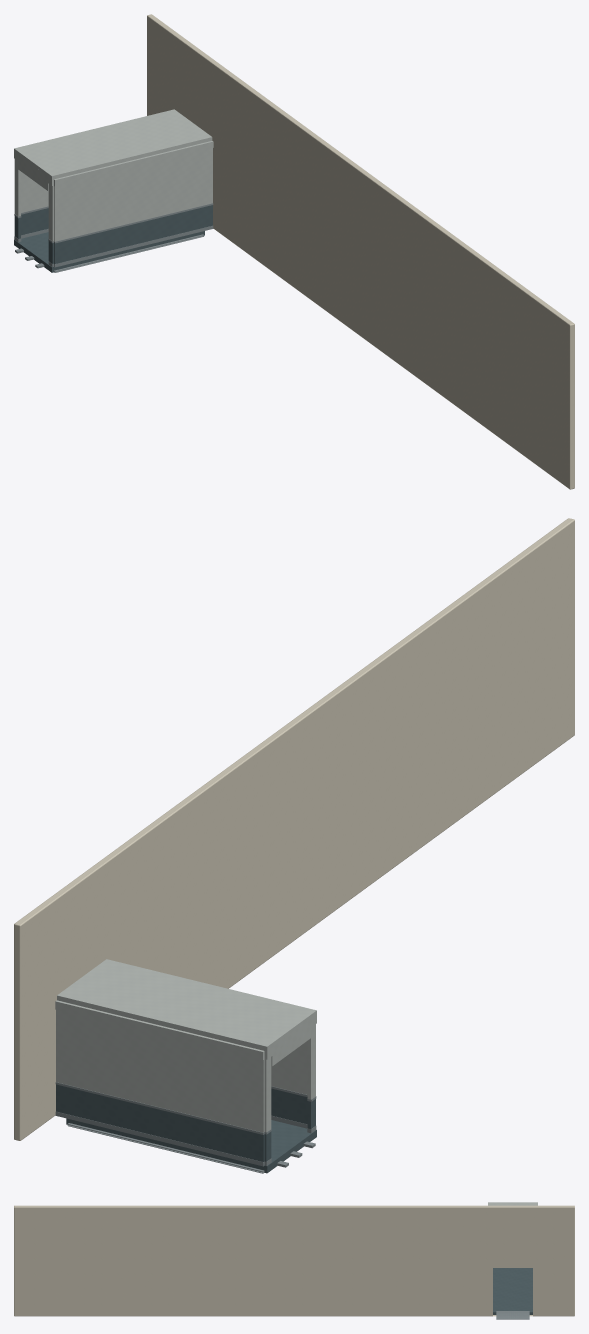
File: CINEMA3_SERVICE_RECEIVER_r001.glb
3 views of the same model, one above another, from view 1: azimuth 30°, elevation 25°; view 2: azimuth 150°, elevation 25°; view 3: azimuth 270°, elevation 25° (orthographic). The views are drawn at different scales.
Parts seen in each view (by area): view 1: C3R_SUCCESSOR_E_outer_west1, C3R_BATCH_002, C3R_BATCH_000, C3R_BATCH_003; view 2: C3R_SUCCESSOR_E_outer_west1, C3R_BATCH_002, C3R_BATCH_000, C3R_BATCH_003; view 3: C3R_SUCCESSOR_E_outer_west1, C3R_BATCH_000, C3R_BATCH_003, C3R_BATCH_002.
Part boxes in pixels (box(x1,y1,x2,y2)): C3R_SUCCESSOR_E_outer_west1: box(147, 14, 574, 489); C3R_BATCH_002: box(14, 109, 213, 241); C3R_BATCH_000: box(14, 205, 212, 272); C3R_BATCH_003: box(14, 203, 213, 272); C3R_SUCCESSOR_E_outer_west1: box(14, 518, 574, 1140); C3R_BATCH_002: box(55, 959, 316, 1132); C3R_BATCH_000: box(56, 1084, 316, 1173); C3R_BATCH_003: box(55, 1082, 316, 1173); C3R_SUCCESSOR_E_outer_west1: box(14, 1205, 574, 1316); C3R_BATCH_000: box(493, 1268, 532, 1314); C3R_BATCH_003: box(496, 1311, 529, 1319); C3R_BATCH_002: box(488, 1202, 537, 1205).
Size of the model in its own units: 8.3 by 7.44 by 33.5.
Materials: 7 (6 with a texture image).
